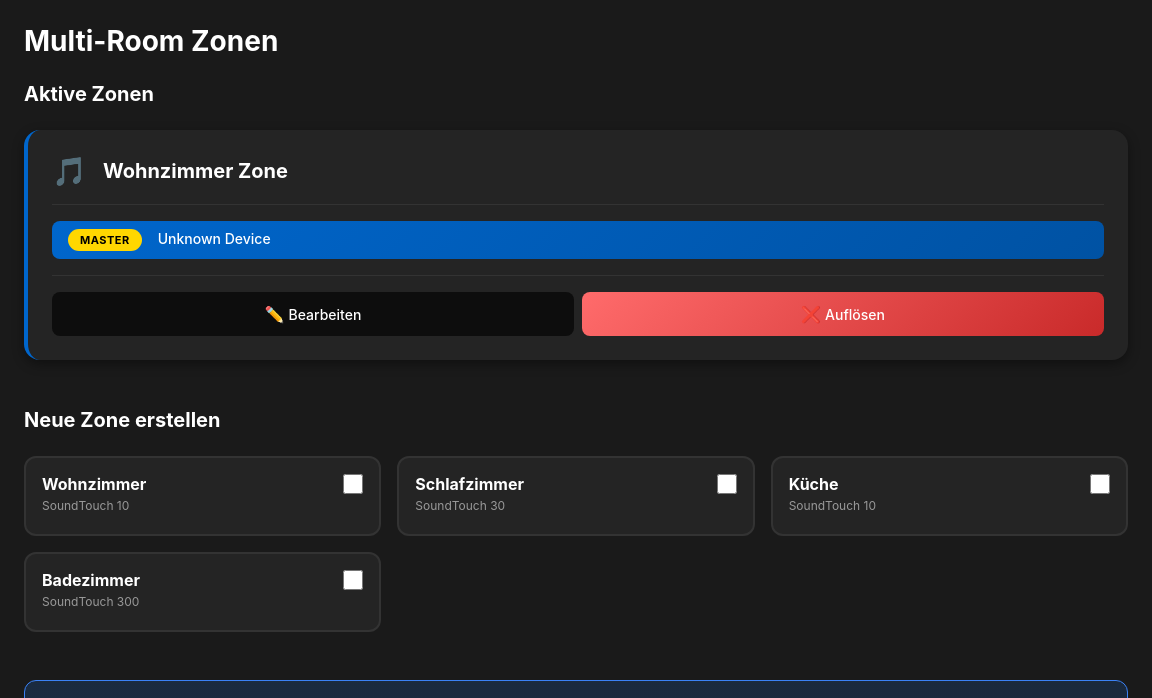
Test: MultiRoom - Zone Creation › should show master badge on first selected device and slave on others
The width and height of the screenshot is (1152, 698).
Note: Select first device - should become Master
Click the checkbox labelled "Wohnzimmer SoundTouch 10": (353, 484) [343,474,363,494]
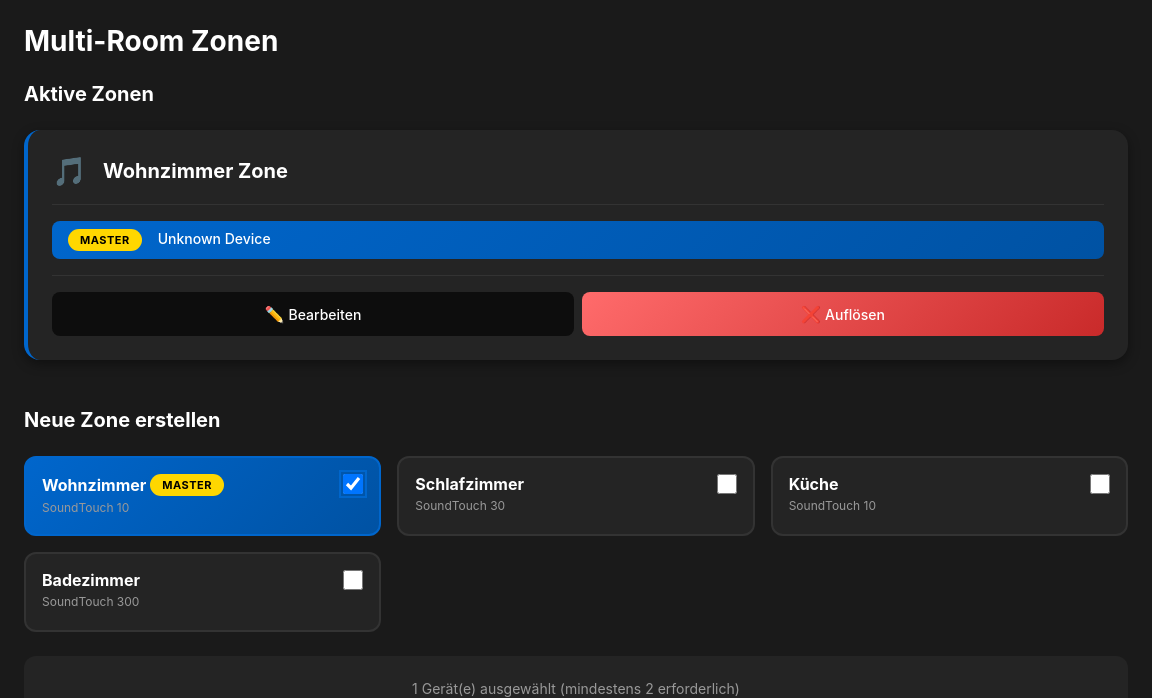
Check: the text "Master" next to "Unknown Device" is shown, box [80,233,130,247]
Note: Select second device - should become Slave
Click the checkbox labelled "Schlafzimmer SoundTouch 30": (727, 484) [717,474,737,494]
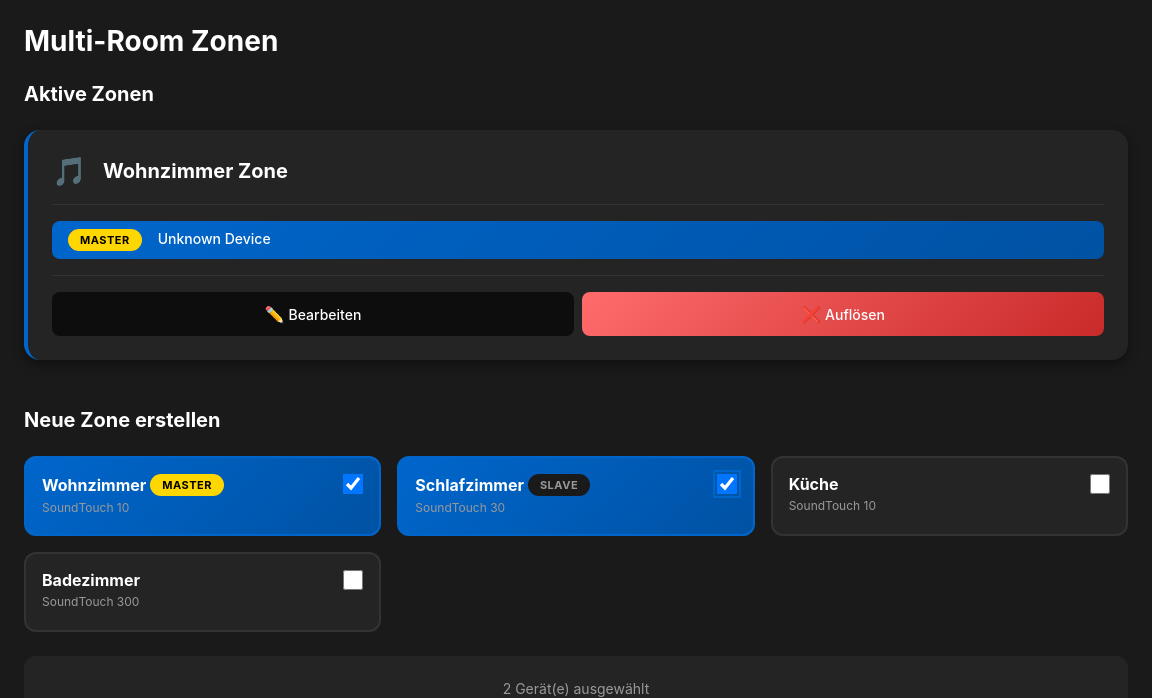
Check: the text "Slave" is shown, box [528,474,590,496]
